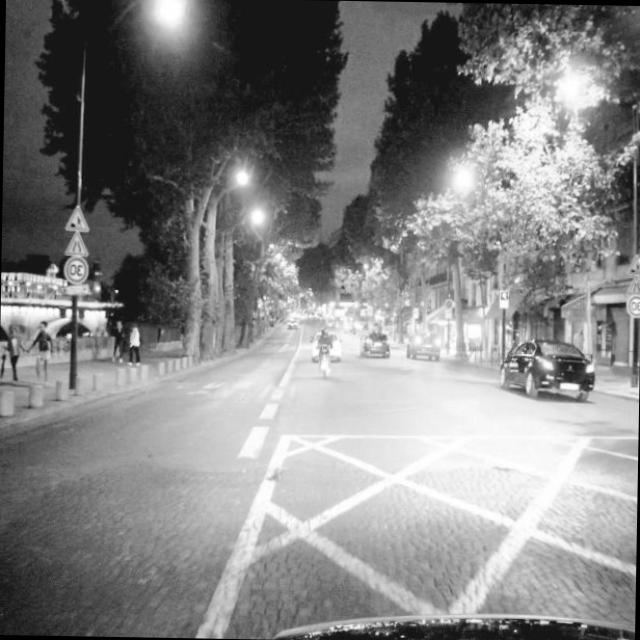Sign: (625, 254, 640, 317), (64, 256, 90, 284), (64, 204, 89, 231), (64, 230, 89, 256), (60, 283, 89, 296)
